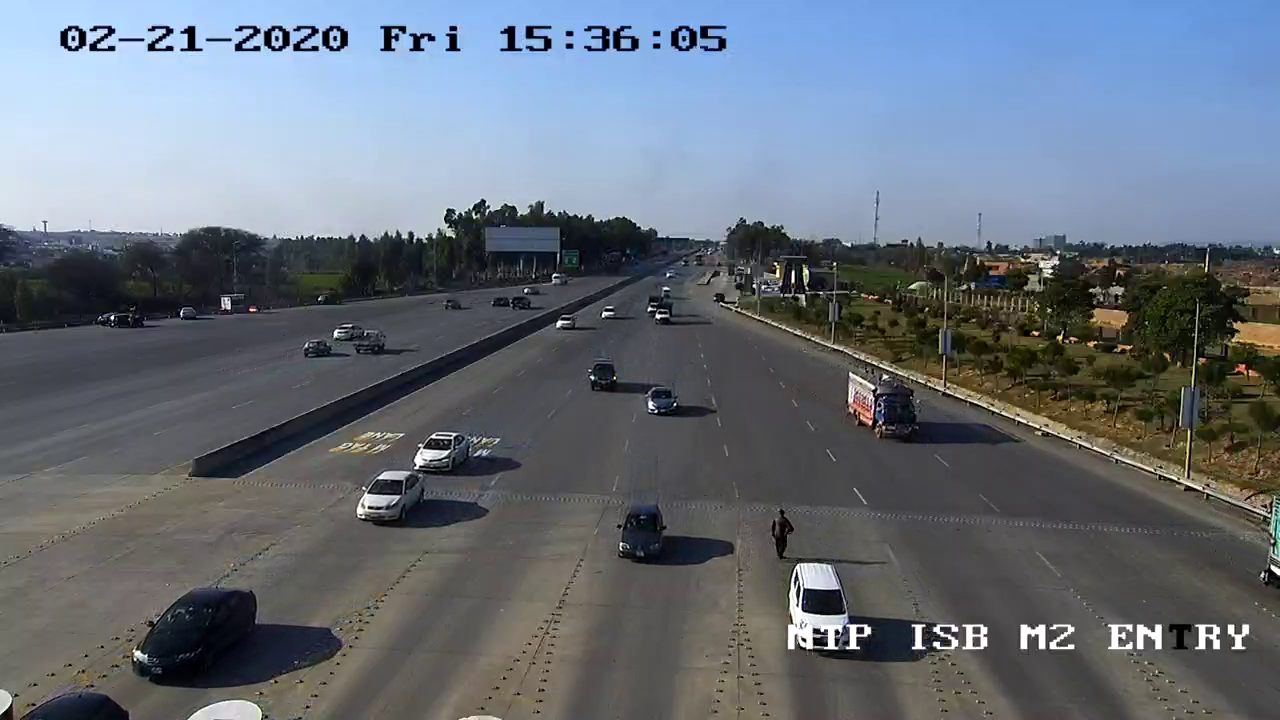f1: (123, 580, 268, 683), (343, 463, 434, 529), (604, 497, 674, 572), (406, 423, 475, 481)
f5: (844, 356, 929, 458)
